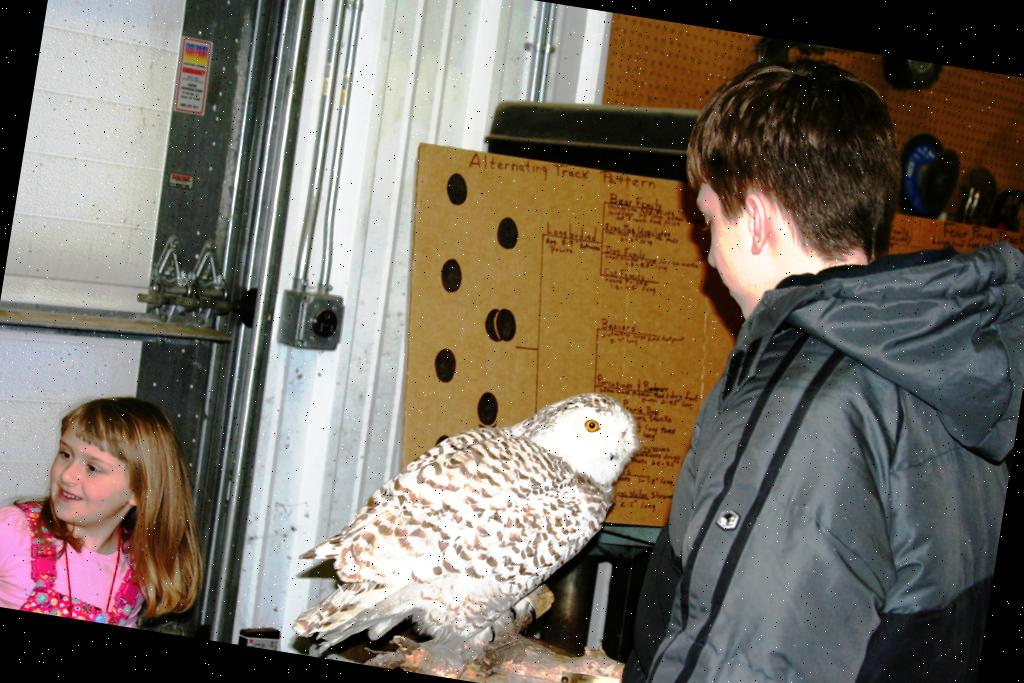Owl: (286, 346, 651, 683)
